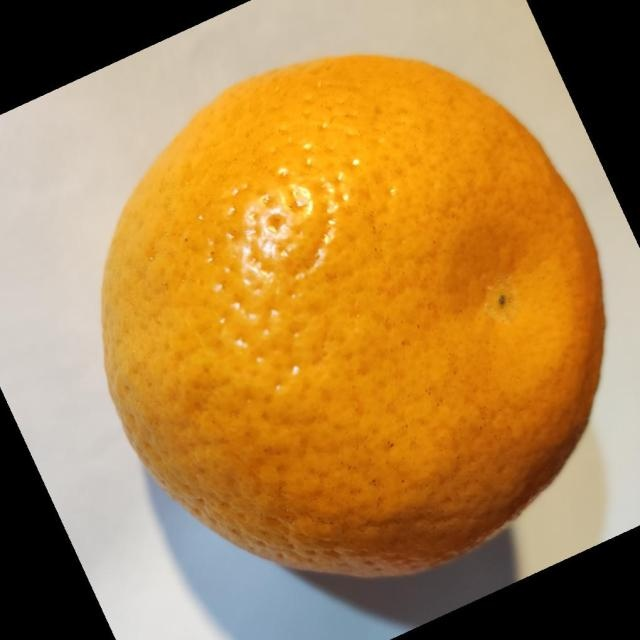agrume: (99, 52, 607, 579)
